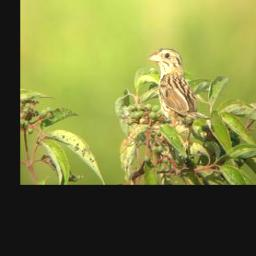Sparrow: (147, 45, 212, 150)
